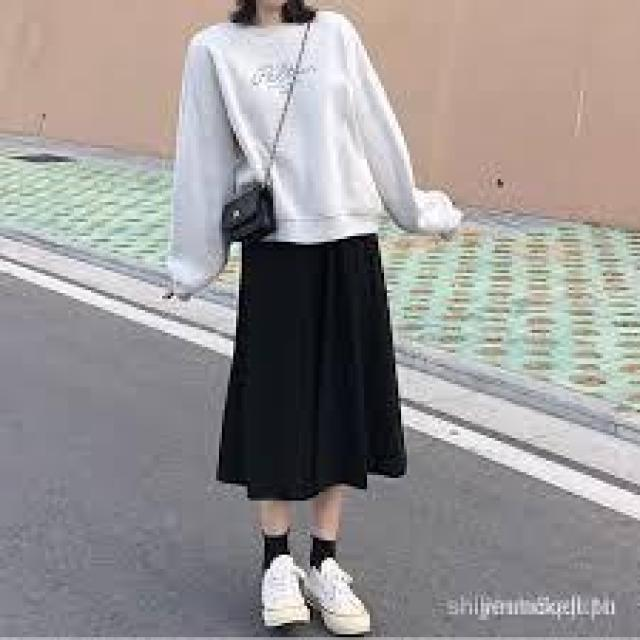skirt: (208, 232, 412, 502)
sweater: (164, 13, 462, 297)
